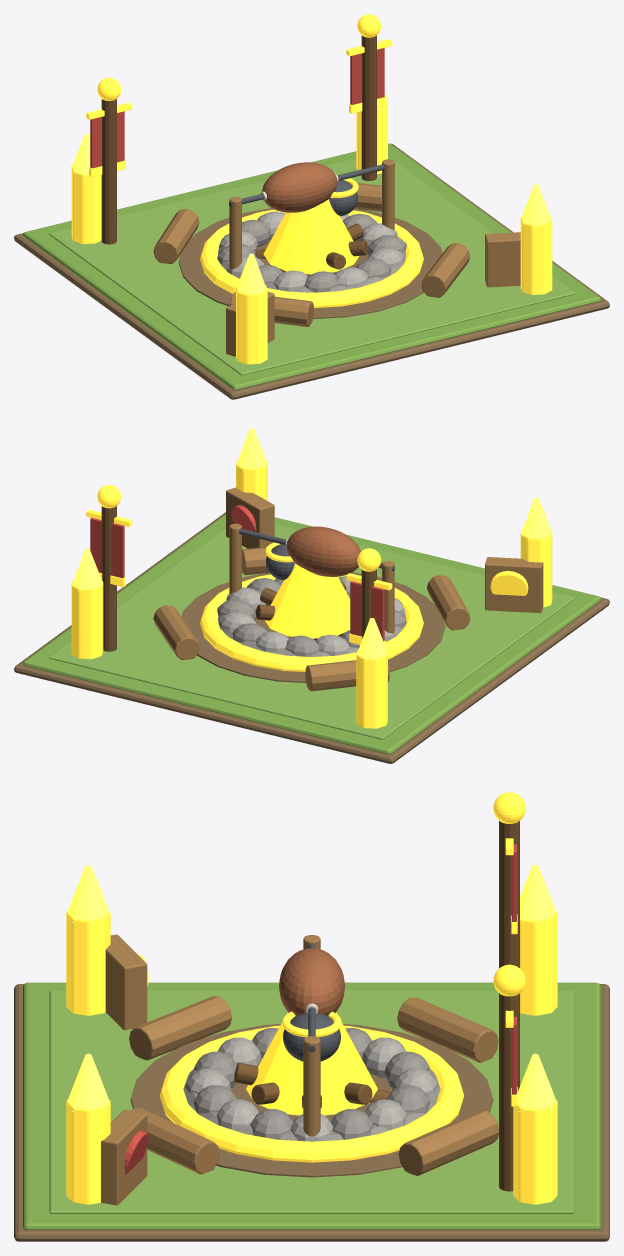
The model's file is army_camp_lv6.glb.
3 views of the same model, one above another, from view 1: azimuth 30°, elevation 25°; view 2: azimuth 150°, elevation 25°; view 3: azimuth 270°, elevation 25° (orthographic). The views are drawn at different scales.
Parts seen in each view (by area): view 1: Base_Inner, Base_Grass, Base_Dirt, CampDirtPatch, FlameOuter, AC_OuterRing, RoastMeat, AC_CornerPillar_1_-1, AC_CornerPillar_-1_-1, TotemPole_-1, AC_CornerPillar_-1_1, TotemPole_1 (+19 smaller); view 2: Base_Inner, Base_Grass, Base_Dirt, CampDirtPatch, FlameOuter, AC_OuterRing, RoastMeat, CampRackFrame_-1, AC_CornerPillar_1_1, AC_CornerPillar_-1_1, TotemPole_1, CampRackFrame_1 (+28 smaller); view 3: Base_Inner, Base_Grass, Base_Dirt, AC_OuterRing, CampDirtPatch, FlameOuter, AC_CornerPillar_1_1, AC_CornerPillar_-1_-1, AC_CornerPillar_1_-1, LogBench_3.90, LogBench_2.35, LogBench_0.80 (+32 smaller).
Boxes of the visible parts, bbox=[...] form: Base_Inner: bbox=[49, 156, 574, 375]; Base_Grass: bbox=[23, 143, 600, 390]; Base_Dirt: bbox=[14, 143, 609, 399]; CampDirtPatch: bbox=[178, 208, 442, 318]; FlameOuter: bbox=[263, 199, 358, 274]; AC_OuterRing: bbox=[200, 209, 423, 307]; RoastMeat: bbox=[262, 162, 337, 212]; AC_CornerPillar_1_-1: bbox=[520, 215, 552, 294]; AC_CornerPillar_-1_-1: bbox=[236, 285, 267, 364]; TotemPole_-1: bbox=[101, 99, 116, 244]; AC_CornerPillar_-1_1: bbox=[71, 166, 101, 243]; TotemPole_1: bbox=[361, 35, 376, 180]; Base_Inner: bbox=[49, 524, 574, 739]; Base_Grass: bbox=[23, 514, 600, 754]; Base_Dirt: bbox=[14, 512, 609, 763]; CampDirtPatch: bbox=[181, 572, 445, 682]; FlameOuter: bbox=[265, 563, 350, 638]; AC_OuterRing: bbox=[200, 574, 423, 671]; RoastMeat: bbox=[286, 526, 360, 576]; CampRackFrame_-1: bbox=[485, 557, 543, 613]; AC_CornerPillar_1_1: bbox=[71, 580, 103, 659]; AC_CornerPillar_-1_1: bbox=[356, 649, 387, 728]; TotemPole_1: bbox=[101, 506, 116, 651]; CampRackFrame_1: bbox=[226, 487, 274, 548]; Base_Inner: bbox=[49, 990, 574, 1213]; Base_Grass: bbox=[23, 982, 600, 1229]; Base_Dirt: bbox=[14, 984, 609, 1241]; AC_OuterRing: bbox=[159, 1025, 464, 1162]; CampDirtPatch: bbox=[130, 1024, 493, 1177]; FlameOuter: bbox=[246, 1012, 377, 1115]; AC_CornerPillar_1_1: bbox=[513, 1100, 557, 1204]; AC_CornerPillar_-1_-1: bbox=[66, 911, 110, 1015]; AC_CornerPillar_1_-1: bbox=[66, 1100, 110, 1204]; LogBench_3.90: bbox=[129, 996, 231, 1060]; LogBench_2.35: bbox=[397, 997, 498, 1062]; LogBench_0.80: bbox=[398, 1110, 498, 1175].
Size of the model in its own units: 3.68 by 1.62 by 3.68.
